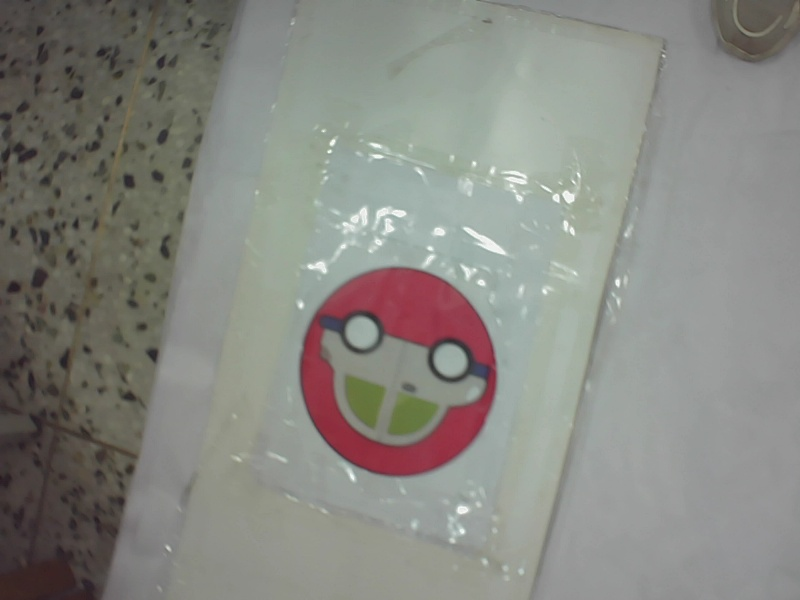areaC: (294, 261, 502, 478)
